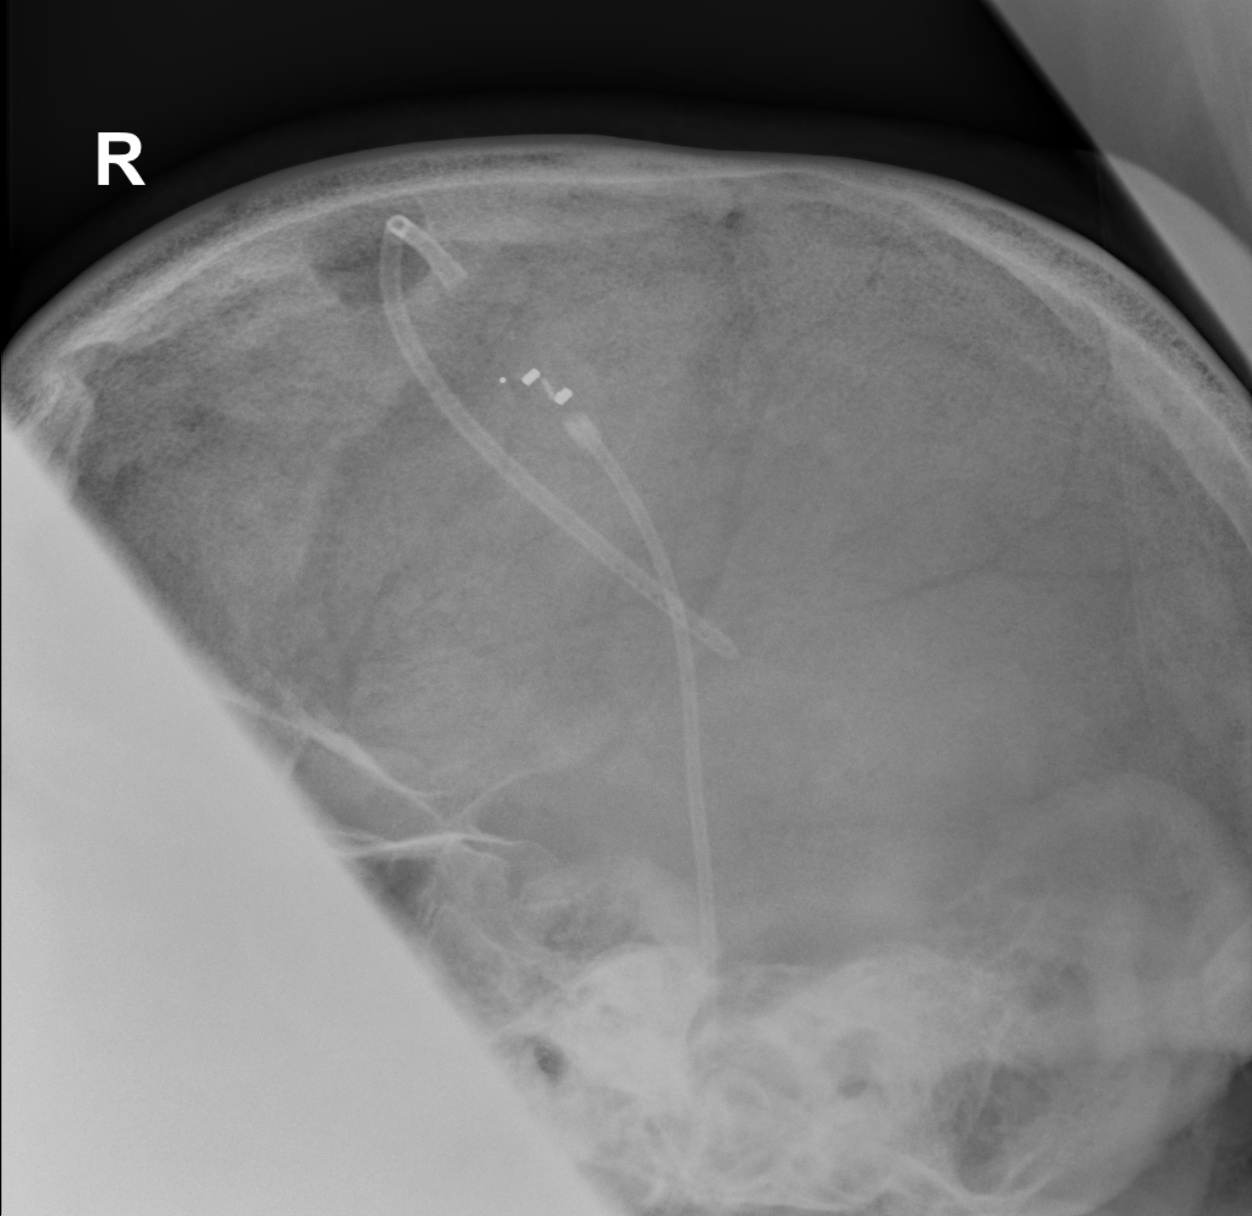Codman Certas: (490, 336, 591, 430)
